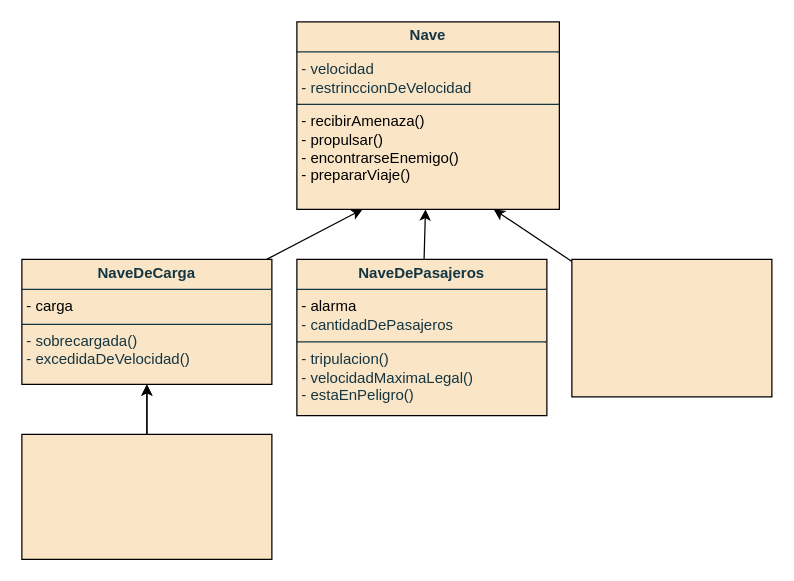
Image size: 794x581. Some labels were removed from this diagram. Here are the shapes that lost their labels. From the top down, the centre of each, then its label:
At point 671,327: "NaveDeCombate - modo - mensajesEmitidos - ultimoMensaje() - estaInvisible()".
At point 146,496: "NaveDeCarga ResiduosRadioactivos - sellado - sellarAlVacio()".
